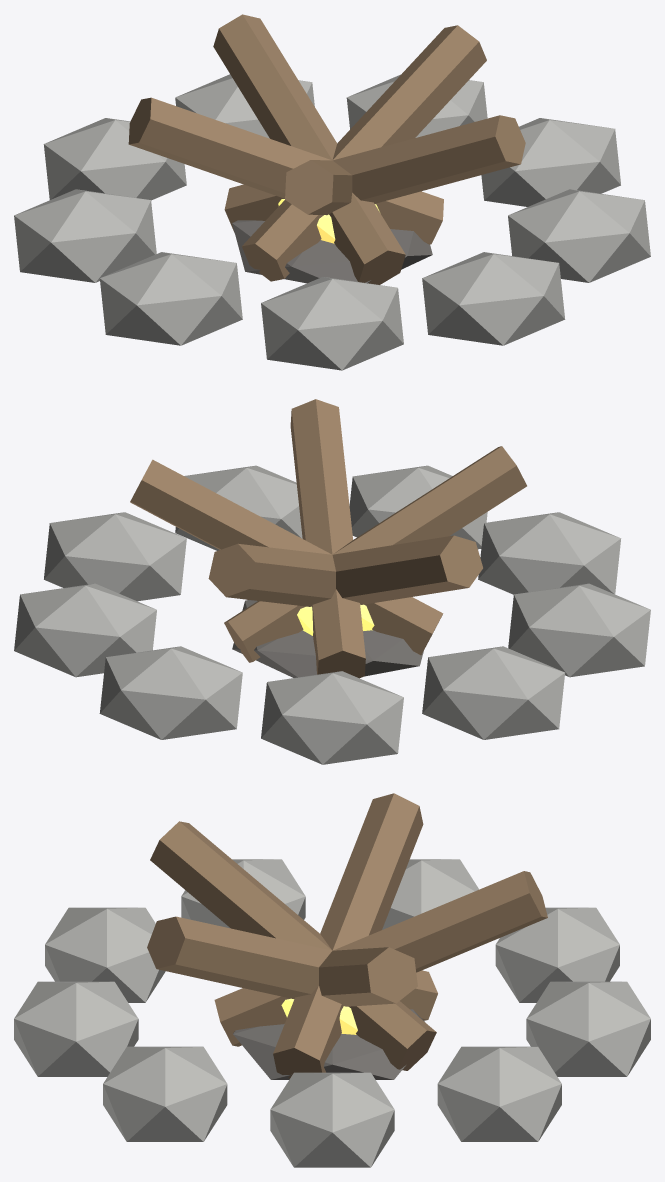
Rendered from fogueira.glb.
3 views of the same model, one above another, from view 1: azimuth 30°, elevation 25°; view 2: azimuth 150°, elevation 25°; view 3: azimuth 270°, elevation 25° (orthographic). The views are drawn at different scales.
Parts seen in each view (by area): view 1: fogueira; view 2: fogueira; view 3: fogueira.
Part boxes in pixels (<box>): fogueira: <box>14,14,650,370</box>; fogueira: <box>14,399,650,764</box>; fogueira: <box>14,793,650,1167</box>.
Bounding box in the file's own units: 0.8139 × 0.2565 × 0.7834.
